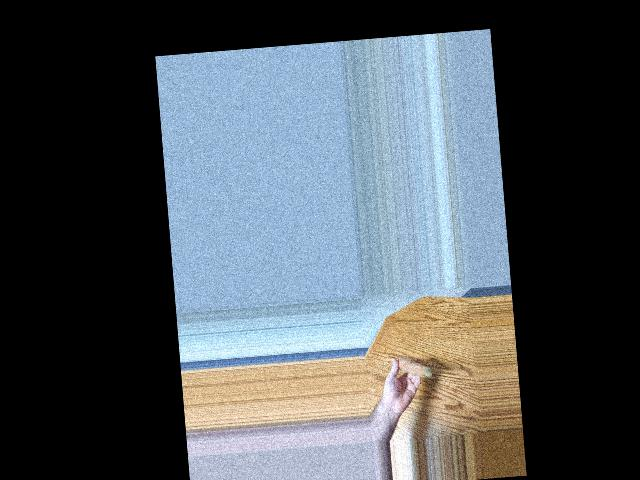sweet_potato: (395, 354, 433, 382)
